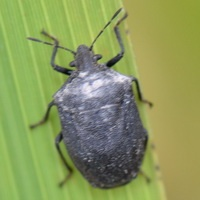insect: (28, 8, 151, 188)
